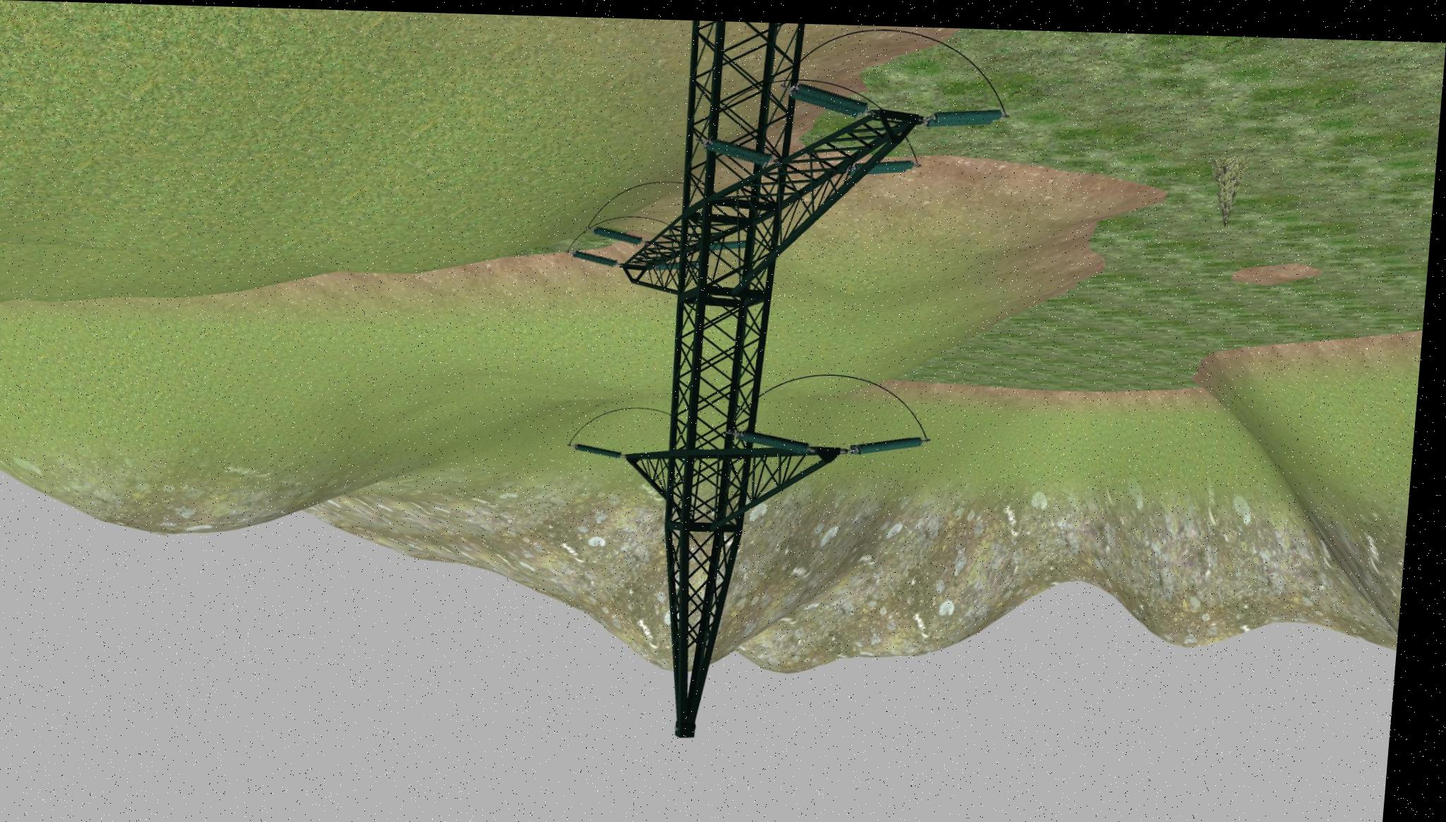tower: (573, 19, 936, 749)
